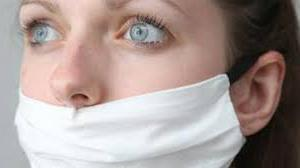mask_weared_incorrect: (13, 1, 204, 167)
